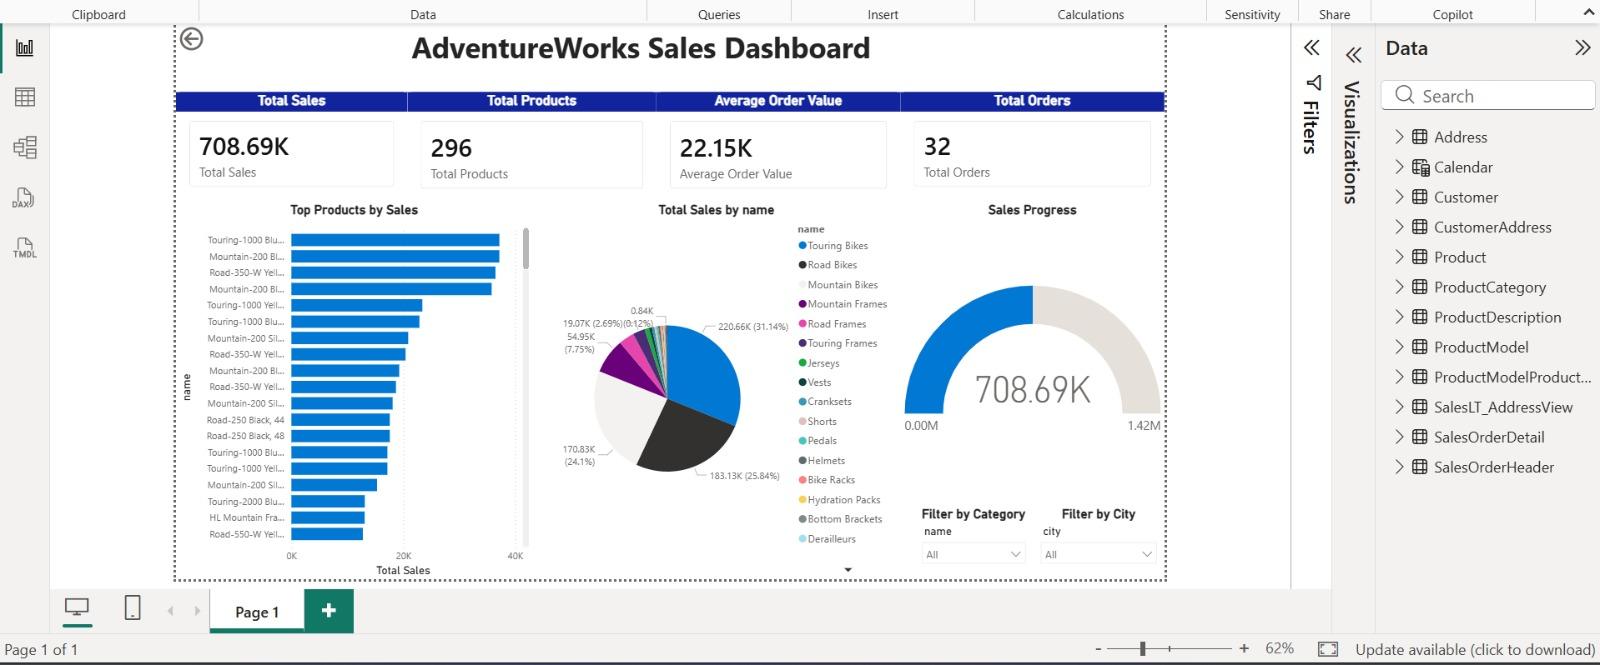

The dashboard page shown, as its layout file describes it:
{"tool":"powerbi","page":{"name":"Page 1","canvas":[1280,720],"ordinal":0},"visuals":[{"type":"cardVisual","title":"Total Products","fields":{"Data":["Product.Nb Produits"]},"box":[299.6,89.1,322.2,142.5],"z":0},{"type":"actionButton","box":[0,0,100,40],"z":1000},{"type":"cardVisual","title":"Total Sales","fields":{"Data":["SalesOrderDetail.Total Sales"]},"box":[0,89.1,299.6,139.3],"z":2000},{"type":"cardVisual","title":"Average Order Value","fields":{"Data":["SalesOrderDetail.Panier Moyen"]},"box":[621.8,89.1,315.7,142.5],"z":3000},{"type":"cardVisual","title":"Total Orders","fields":{"Data":["SalesOrderHeader.Nb Commandes"]},"box":[937.5,89.1,341.7,139.3],"z":4000},{"type":"slicer","title":"Filter by Category","fields":{"Values":["ProductCategory.name"]},"box":[955.3,625,153.8,95.5],"z":5000},{"type":"clusteredBarChart","title":"Top Products by Sales","fields":{"Category":["Product.name"],"Y":["SalesOrderDetail.Total Sales"]},"box":[0,231.5,461.5,489],"z":6000},{"type":"textbox","box":[299.6,0,668.7,76.1],"z":7000},{"type":"slicer","title":"Filter by City","fields":{"Values":["Address.city"]},"box":[1109.2,625,170,95.5],"z":8000},{"type":"gauge","title":"Sales Progress","fields":{"Y":["SalesOrderDetail.Total Sales"]},"box":[937.5,231.5,341.7,393.5],"z":9000},{"type":"pieChart","fields":{"Category":["ProductCategory.name"],"Y":["SalesOrderDetail.Total Sales"]},"box":[461.5,231.5,476.1,489],"z":10000}]}

Visuals, with their boxes on the page's 1280x720 design canvas (x1, y1, x2, y2). These are canvas units, not pixel positions in the 1600x665 screenshot, which may show the page scaled, cropped or inside an application window:
"Total Products" cardVisual: 300, 89, 622, 232
actionButton: 0, 0, 100, 40
"Total Sales" cardVisual: 0, 89, 300, 228
"Average Order Value" cardVisual: 622, 89, 938, 232
"Total Orders" cardVisual: 938, 89, 1279, 228
"Filter by Category" slicer: 955, 625, 1109, 720
"Top Products by Sales" clusteredBarChart: 0, 232, 462, 720
textbox: 300, 0, 968, 76
"Filter by City" slicer: 1109, 625, 1279, 720
"Sales Progress" gauge: 938, 232, 1279, 625
pieChart - ProductCategory.name x SalesOrderDetail.Total Sales: 462, 232, 938, 720
